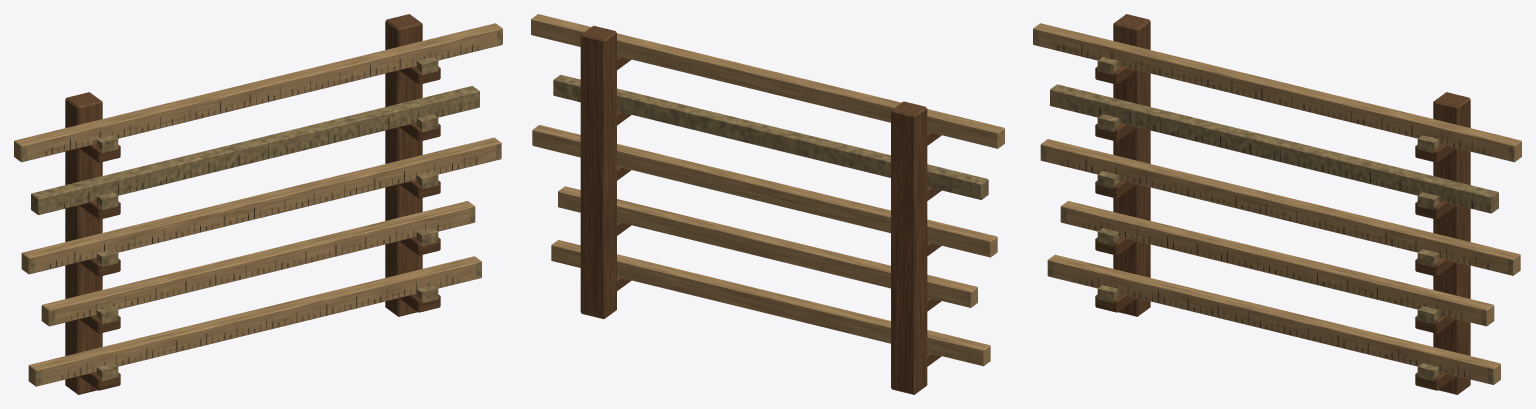
Rendered from GraduatedRuleRack_LOD0.fbx.
The picture shows the model from 3 angles, left to right: view 1: azimuth 30°, elevation 25°; view 2: azimuth 150°, elevation 25°; view 3: azimuth 330°, elevation 25°; orthographic projection. The views are drawn at different scales.
Parts seen in each view (by area): view 1: GraduatedRuleRack; view 2: GraduatedRuleRack; view 3: GraduatedRuleRack.
Boxes of the visible parts, box(x1,y1,x2,y2) form: GraduatedRuleRack: box(14, 14, 502, 394); GraduatedRuleRack: box(531, 14, 1004, 394); GraduatedRuleRack: box(1033, 14, 1521, 394).
Bounding box in the file's own units: 2.17 × 1.24 × 0.2565.
1 material, 1 textured.
